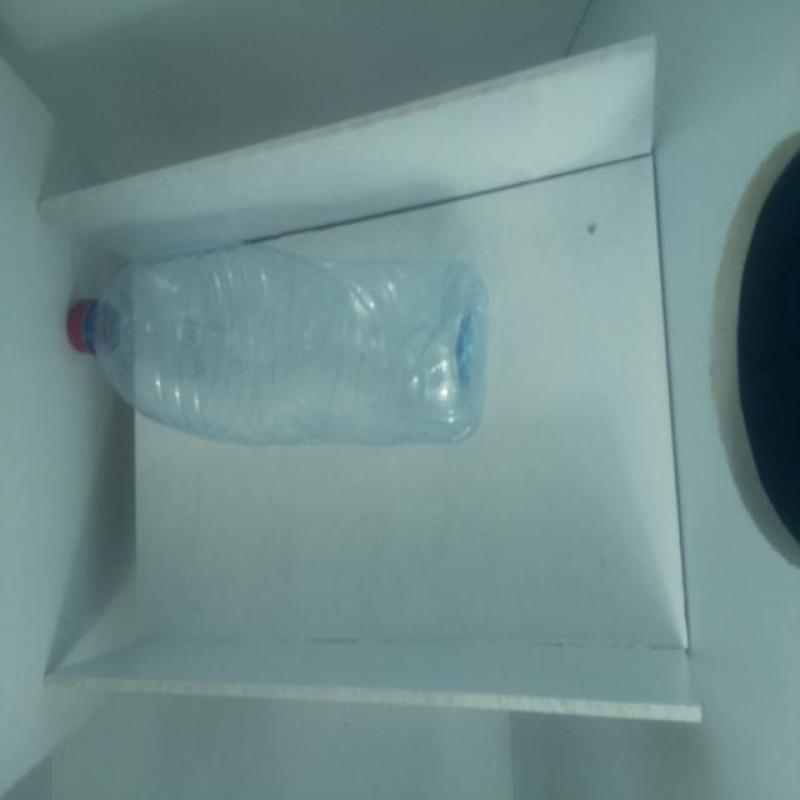botella: (65, 244, 491, 447)
